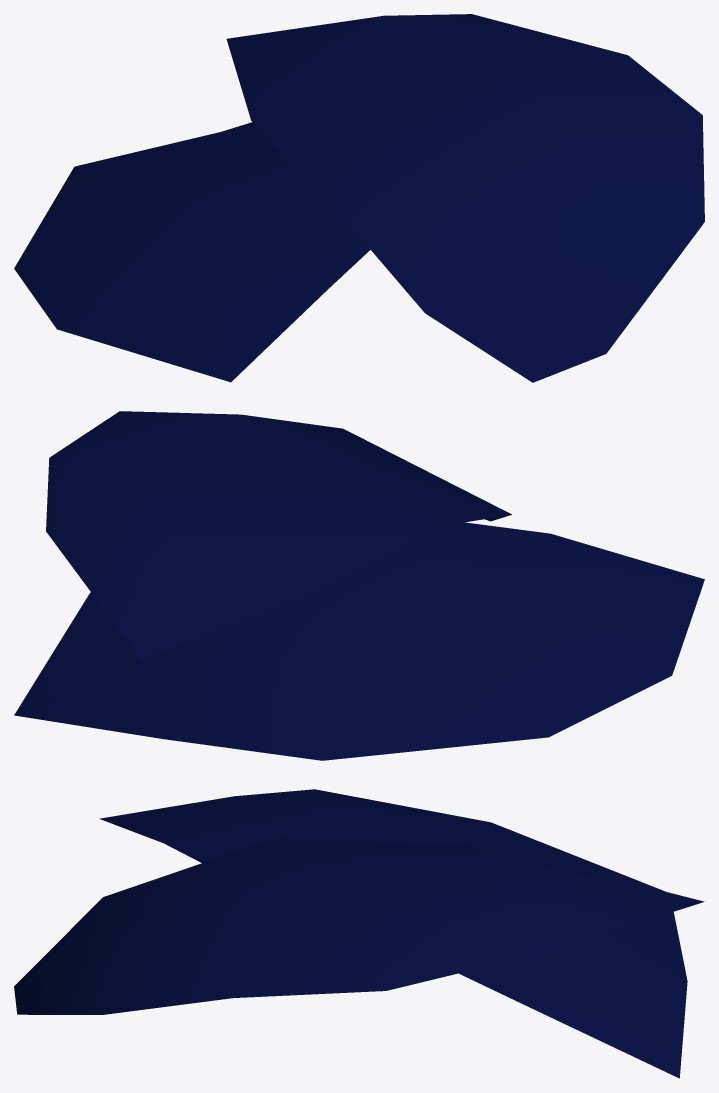
The model's file is Grass Blade (2) 1 Leaf Bed 2.fbx.
3 views of the same model, one above another, from view 1: azimuth 30°, elevation 25°; view 2: azimuth 150°, elevation 25°; view 3: azimuth 270°, elevation 25° (orthographic). The views are drawn at different scales.
Visible parts, largest first — view 1: LowPlant_03 MOSS; view 2: LowPlant_03 MOSS; view 3: LowPlant_03 MOSS.
Boxes of the visible parts, x1,y1,x2,y2 form: LowPlant_03 MOSS: (14, 14, 704, 382); LowPlant_03 MOSS: (14, 411, 704, 760); LowPlant_03 MOSS: (14, 789, 704, 1078).
Size of the model in its own units: 4.89 by 1.29 by 4.64.
